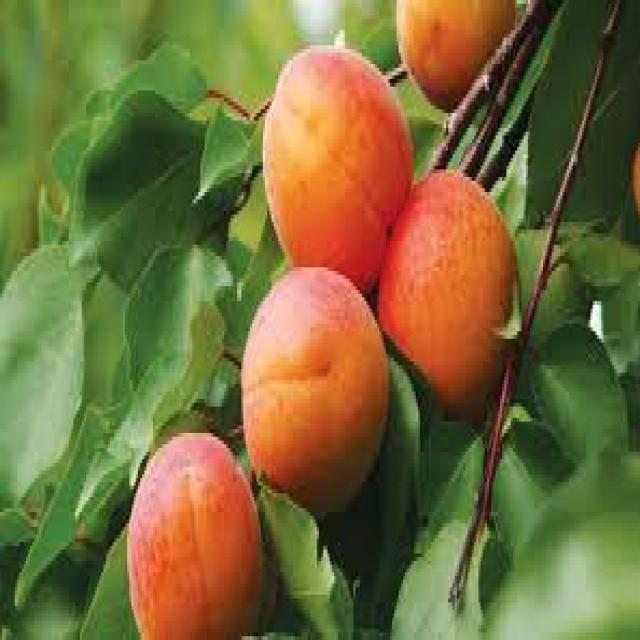kayisi: (263, 48, 419, 295), (241, 271, 387, 519), (379, 168, 521, 407), (131, 434, 265, 640)
yaprak: (71, 88, 244, 292)
